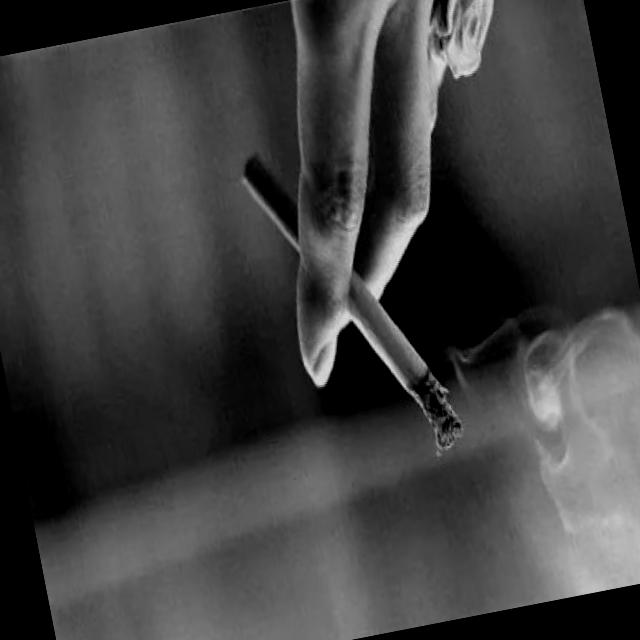smoke: (234, 121, 468, 486)
